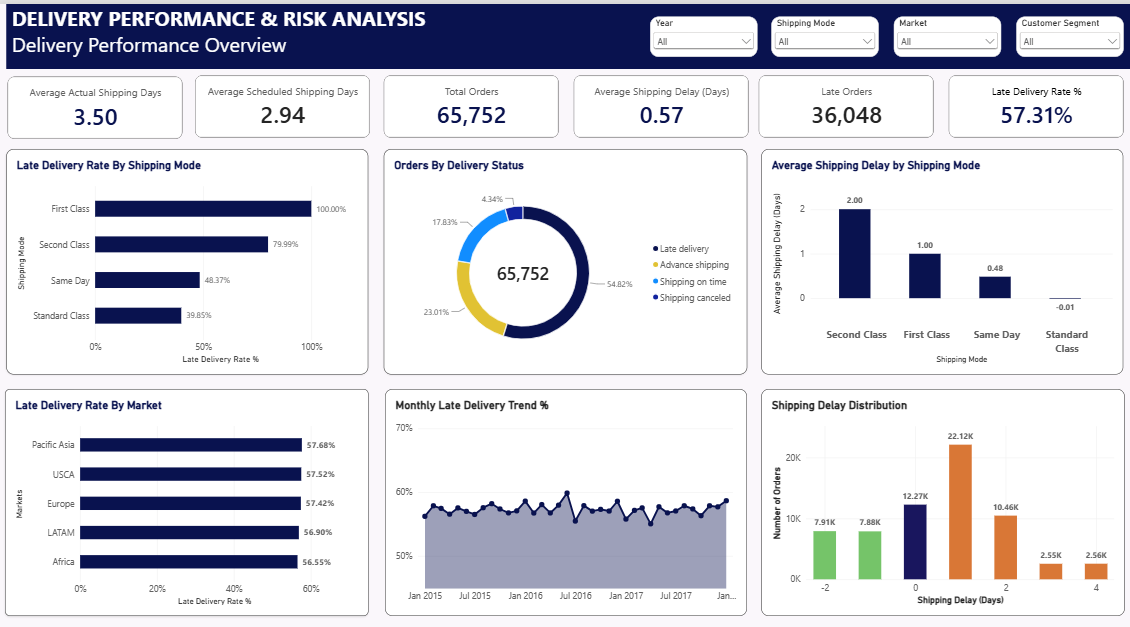

The page's visual inventory and layout, read from the dashboard file:
{"tool":"powerbi","page":{"name":"Delivery Performance & Risk","canvas":[1920,1080],"ordinal":1},"visuals":[{"type":"textbox","box":[10.8,0,1908.8,103.9],"z":0},{"type":"cardVisual","fields":{"Data":["supply_chain.Average Actual Shipping Days"]},"box":[11.1,115,280,100],"z":1000},{"type":"cardVisual","fields":{"Data":["supply_chain.Average Scheduled Shipping Days"]},"box":[311.6,114.7,280,100],"z":2000},{"type":"cardVisual","fields":{"Data":["supply_chain.Total Orders"]},"box":[614.6,114.7,280,100],"z":3000},{"type":"cardVisual","fields":{"Data":["supply_chain.Late Orders"]},"box":[1214.1,114.7,280,100],"z":4000},{"type":"cardVisual","fields":{"Data":["supply_chain.Late Delivery Rate %"]},"box":[1517.1,114.7,280,100],"z":5000},{"type":"cardVisual","fields":{"Data":["supply_chain.Average Shipping Delay (Days)"]},"box":[917.6,114.7,280,100],"z":6000},{"type":"slicer","fields":{"Values":["supply_chain.Order Year"]},"box":[1041,19.5,172.3,64.6],"z":7000},{"type":"slicer","fields":{"Values":["supply_chain.shipping_mode"]},"box":[1233.6,19.5,172.3,64.6],"z":8000},{"type":"slicer","fields":{"Values":["supply_chain.market"]},"box":[1430.5,19.5,172.3,64.6],"z":9000},{"type":"slicer","fields":{"Values":["supply_chain.customer_segment"]},"box":[1625.3,19.5,172.3,64.6],"z":10000},{"type":"clusteredBarChart","title":"Late Delivery Rate By Shipping Mode","fields":{"Category":["supply_chain.shipping_mode"],"Y":["supply_chain.Late Delivery Rate %"]},"box":[10.7,232.3,579.3,360.4],"z":11000},{"type":"donutChart","title":"Orders By Delivery Status","fields":{"Category":["supply_chain.delivery_status"],"Y":["supply_chain.Total Orders"]},"box":[614,232.3,582,360.4],"z":12000},{"type":"clusteredColumnChart","title":"Average Shipping Delay by Shipping Mode","fields":{"Category":["supply_chain.shipping_mode"],"Y":["supply_chain.Average Shipping Delay (Days)"]},"box":[1217.4,232.3,579.3,360.4],"z":13000},{"type":"clusteredBarChart","title":"Late Delivery Rate By Market","fields":{"Category":["supply_chain.market"],"Y":["supply_chain.Late Delivery Rate %"]},"box":[8,616.7,582,363.1],"z":14000},{"type":"lineChart","title":"Monthly Late Delivery Trend %","fields":{"Category":["supply_chain.order_date_dateorders.Variation.Date Hierarchy.Year","supply_chain.order_date_dateorders.Variation.Date Hierarchy.Month"],"Y":["supply_chain.Late Delivery Rate %"]},"box":[616.7,616.7,579.3,363.1],"z":15000},{"type":"clusteredColumnChart","title":"Shipping Delay Distribution","fields":{"Category":["supply_chain.shipping_delay_days"],"Y":["supply_chain.Total Orders"]},"box":[1217.4,616.7,582,363.1],"z":16000}]}

Visuals, with their boxes in screenshot pixels (x1, y1, x2, y2), scaled from the page's 1920x1080 canvas onto the 1130x627 screenshot:
textbox: <region>6, 0, 1129, 60</region>
cardVisual - supply_chain.Average Actual Shipping Days: <region>7, 67, 171, 125</region>
cardVisual - supply_chain.Average Scheduled Shipping Days: <region>183, 67, 348, 125</region>
cardVisual - supply_chain.Total Orders: <region>362, 67, 527, 125</region>
cardVisual - supply_chain.Late Orders: <region>715, 67, 879, 125</region>
cardVisual - supply_chain.Late Delivery Rate %: <region>893, 67, 1058, 125</region>
cardVisual - supply_chain.Average Shipping Delay (Days): <region>540, 67, 705, 125</region>
slicer - supply_chain.Order Year: <region>613, 11, 714, 49</region>
slicer - supply_chain.shipping_mode: <region>726, 11, 827, 49</region>
slicer - supply_chain.market: <region>842, 11, 943, 49</region>
slicer - supply_chain.customer_segment: <region>957, 11, 1058, 49</region>
"Late Delivery Rate By Shipping Mode" clusteredBarChart: <region>6, 135, 347, 344</region>
"Orders By Delivery Status" donutChart: <region>361, 135, 704, 344</region>
"Average Shipping Delay by Shipping Mode" clusteredColumnChart: <region>716, 135, 1057, 344</region>
"Late Delivery Rate By Market" clusteredBarChart: <region>5, 358, 347, 569</region>
"Monthly Late Delivery Trend %" lineChart: <region>363, 358, 704, 569</region>
"Shipping Delay Distribution" clusteredColumnChart: <region>716, 358, 1059, 569</region>
